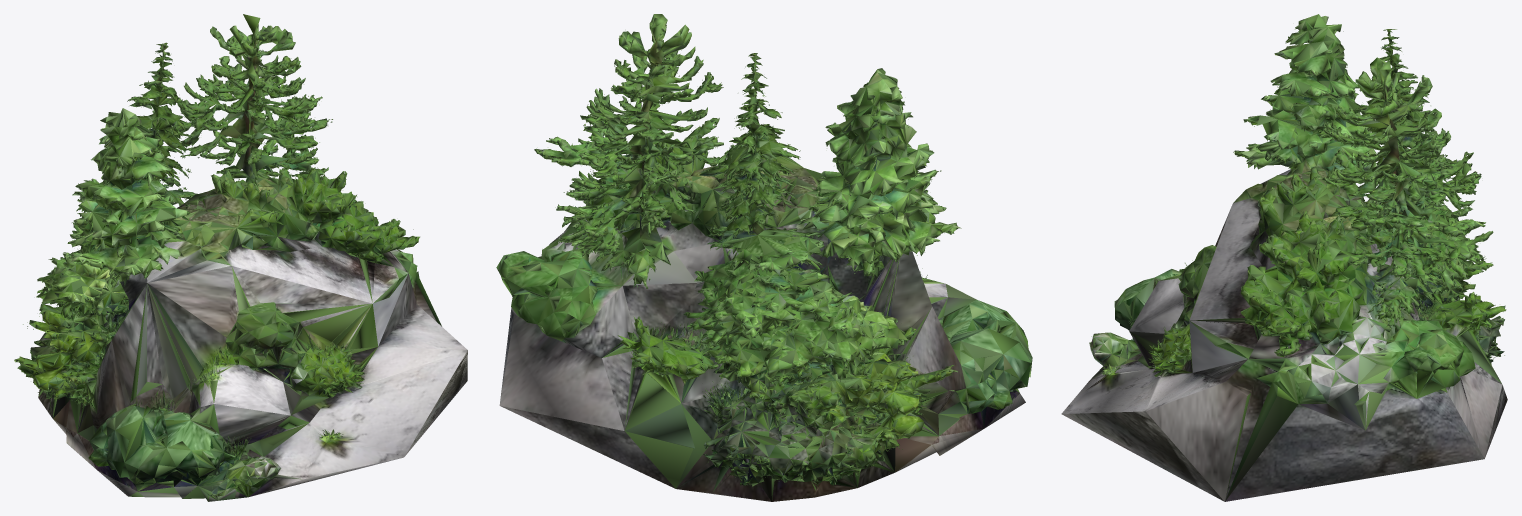
Rendered from Pine_Trees_on_a_Rocky.glb.
The picture shows the model from 3 angles, left to right: view 1: azimuth 30°, elevation 25°; view 2: azimuth 150°, elevation 25°; view 3: azimuth 270°, elevation 25°; orthographic projection. The views are drawn at different scales.
Visible parts, largest first — view 1: Pine_Trees_on_a_Rocky; view 2: Pine_Trees_on_a_Rocky; view 3: Pine_Trees_on_a_Rocky.
Part boxes in pixels (x1=…): Pine_Trees_on_a_Rocky: x1=14, y1=14, x2=467, y2=501; Pine_Trees_on_a_Rocky: x1=496, y1=14, x2=1032, y2=501; Pine_Trees_on_a_Rocky: x1=1061, y1=14, x2=1507, y2=501.
Size of the model in its own units: 1.92 by 1.74 by 1.86.
Materials: 1 (1 with a texture image).
